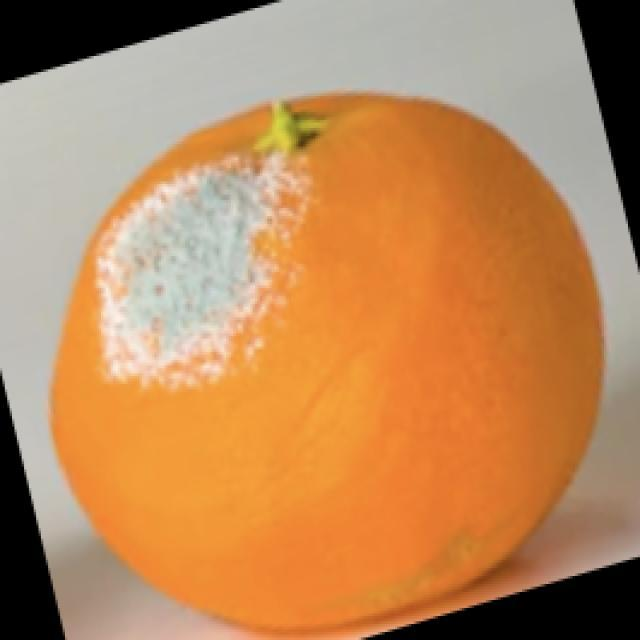sedikit-busuk: (52, 94, 603, 629), (106, 167, 266, 366)
